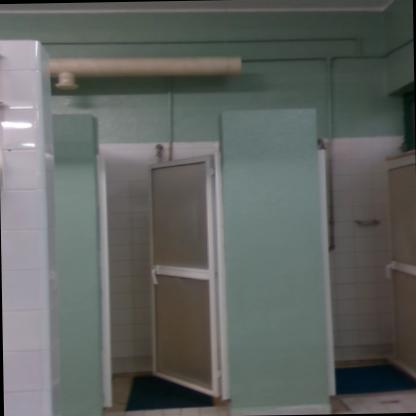open: (39, 106, 248, 415)
